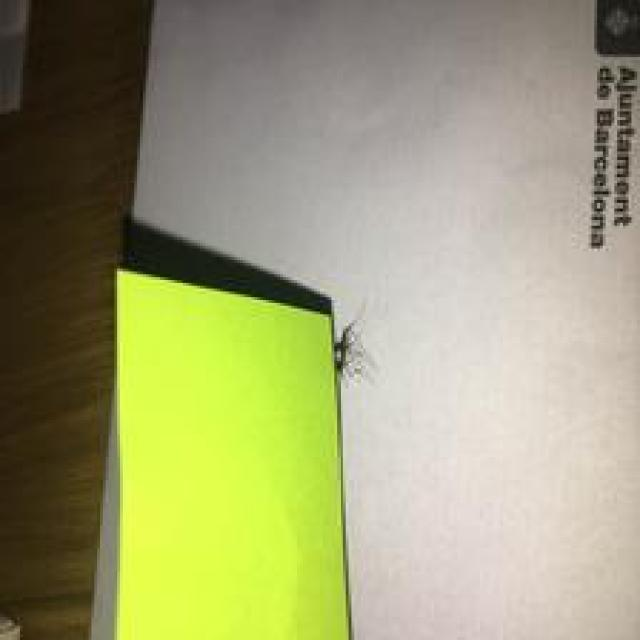Aedes albopictus: (333, 319, 367, 384)
